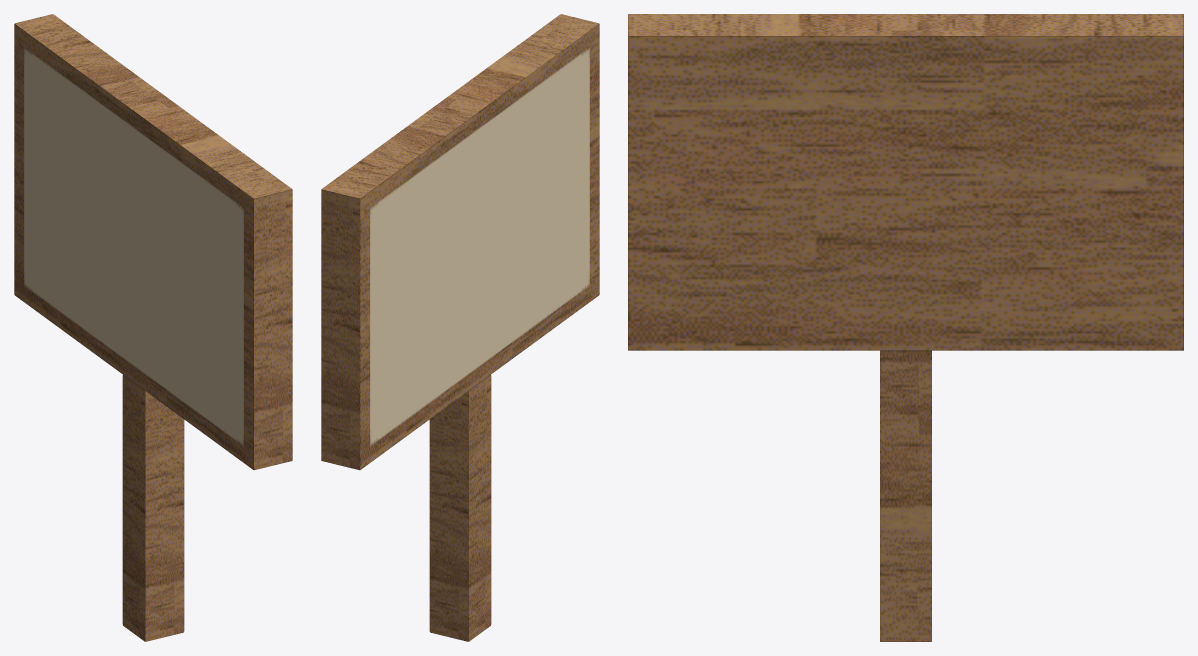
Rendered from Board.obj.
3 views of the same model, side by side, from view 1: azimuth 30°, elevation 25°; view 2: azimuth 150°, elevation 25°; view 3: azimuth 270°, elevation 25° (orthographic). The views are drawn at different scales.
Parts seen in each view (by area): view 1: cuboid; view 2: cuboid; view 3: cuboid.
Boxes of the visible parts, bbox=[...] form: cuboid: bbox=[14, 14, 292, 641]; cuboid: bbox=[321, 14, 599, 641]; cuboid: bbox=[628, 14, 1183, 641].
Bounding box in the file's own units: 0.0375 × 0.4813 × 0.4.
Materials: 1 (1 with a texture image).
